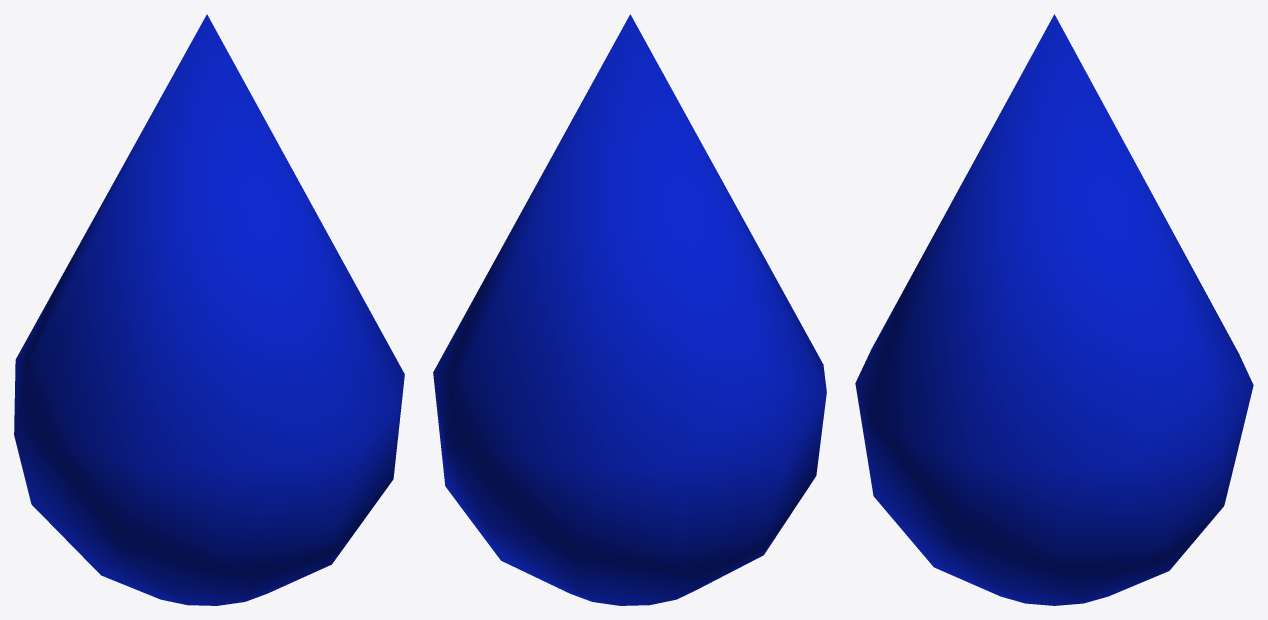
File: boost.fbx
The picture shows the model from 3 angles, left to right: view 1: azimuth 30°, elevation 25°; view 2: azimuth 150°, elevation 25°; view 3: azimuth 270°, elevation 25°; orthographic projection.
Visible parts, largest first — view 1: Sphere; view 2: Sphere; view 3: Sphere.
Part boxes in pixels (left/top/right/bottom): Sphere: left=14, top=14, right=404, bottom=605; Sphere: left=433, top=14, right=826, bottom=605; Sphere: left=855, top=14, right=1253, bottom=605.
Bounding box in the file's own units: 2.01 × 3.11 × 2.
